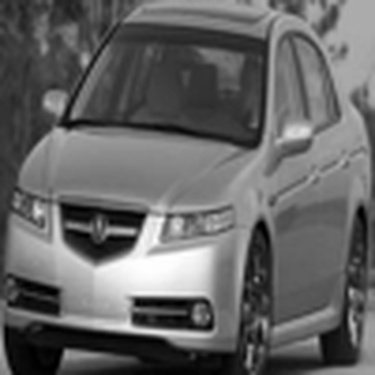car: (14, 9, 364, 357)
